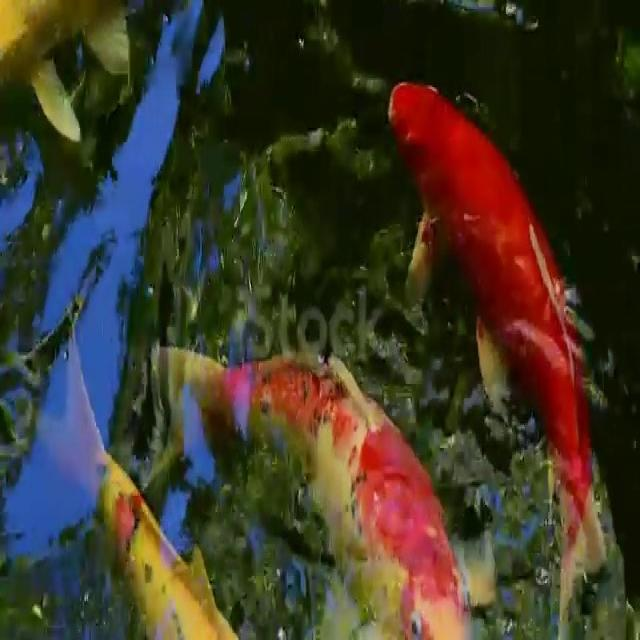fish: (390, 64, 601, 590), (162, 322, 471, 640), (58, 329, 240, 640)
